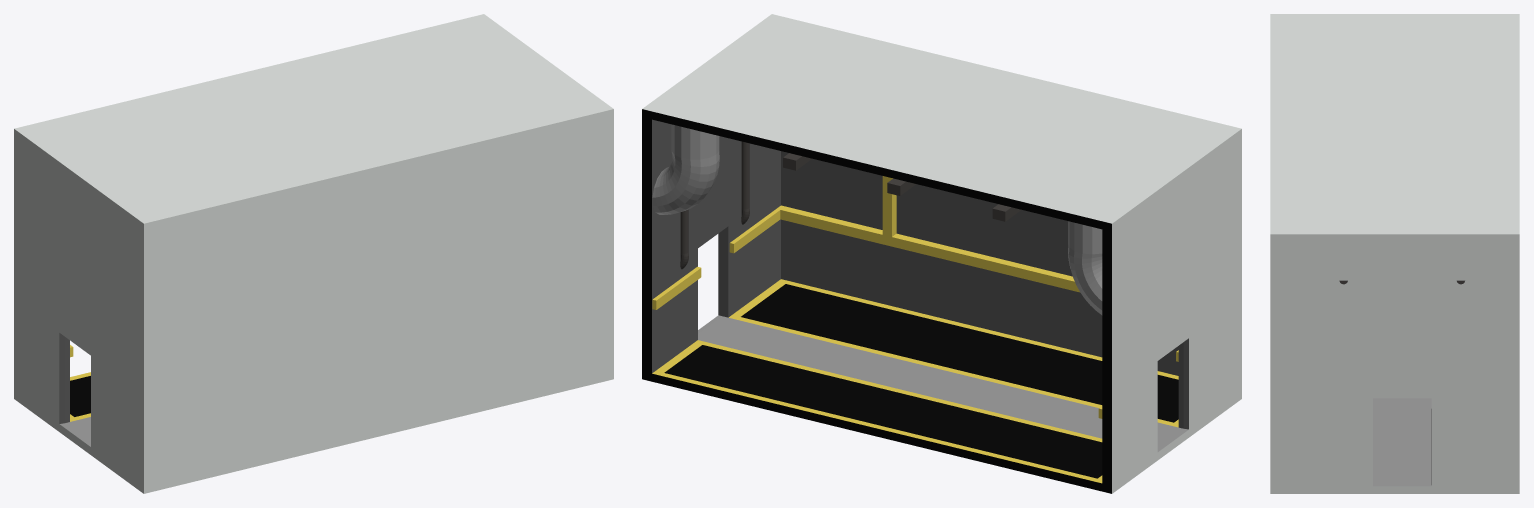
Rendered from Hallway2.fbx.
3 views of the same model, side by side, from view 1: azimuth 30°, elevation 25°; view 2: azimuth 150°, elevation 25°; view 3: azimuth 270°, elevation 25° (orthographic). The views are drawn at different scales.
Visible parts, largest first — view 1: BaseRoom.001; view 2: BaseRoom.001; view 3: BaseRoom.001.
Boxes of the visible parts, bbox=[...] form: BaseRoom.001: bbox=[14, 14, 613, 493]; BaseRoom.001: bbox=[642, 14, 1241, 493]; BaseRoom.001: bbox=[1270, 14, 1519, 493].
Size of the model in its own units: 1806 by 992 by 864.
